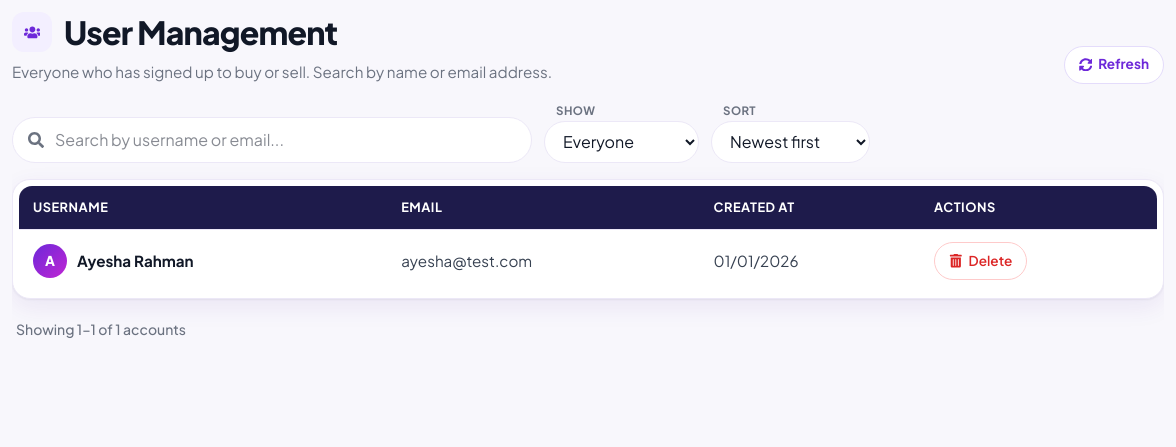
Test: deleting an account › says what has to finish first when the account cannot be deleted yet
This screenshot has width=1176, height=447.
What coordinates should you click on to do the following:
click the button "Delete"
I would click on:
 (981, 261)
Its box is [934,242,1027,280].
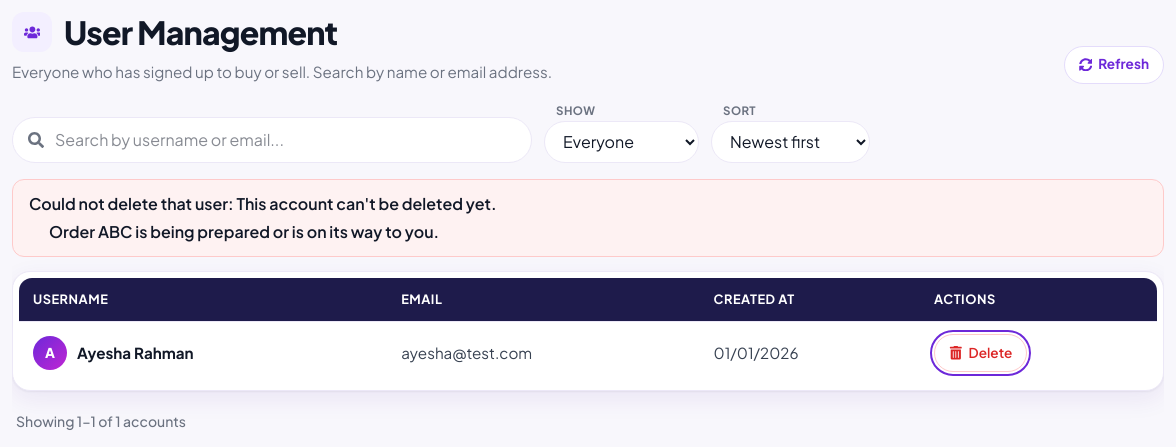
expect the list item "Order ABC is being prepared or is on its way to you." is shown: met, box [49,221,439,242]
expect the message shows "This account can't be deleted yet.": met, box [236,193,496,214]
